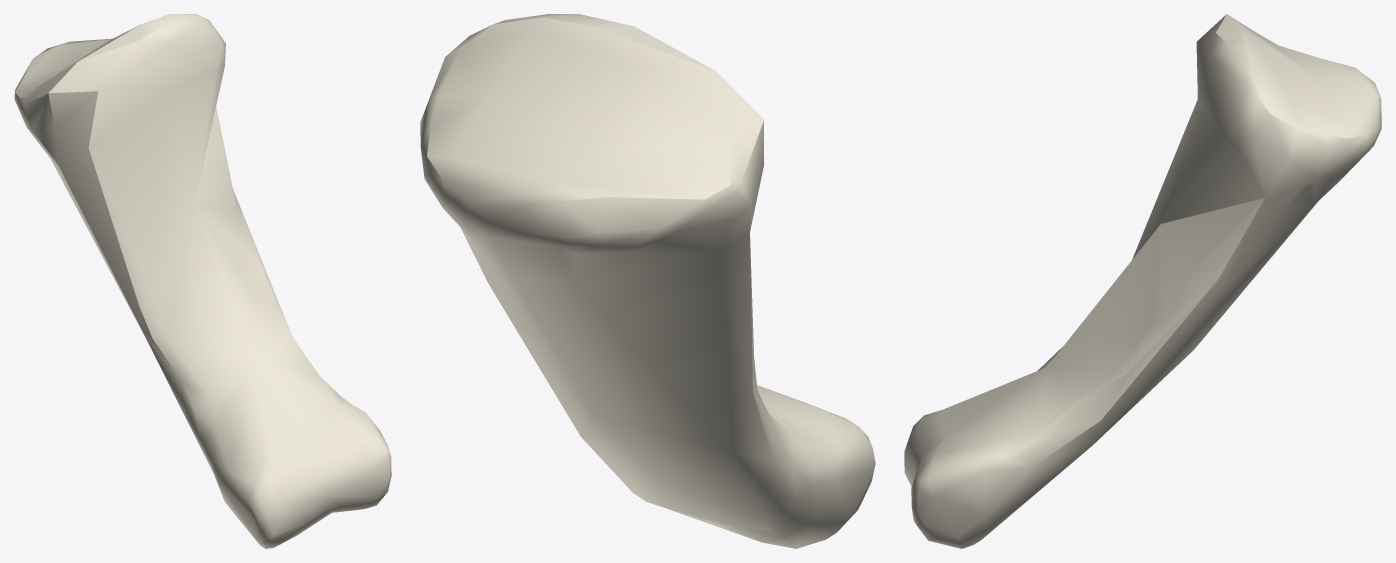
The model's file is fma23940_fj3299.glb.
3 renders of one model, left to right at view 1: azimuth 30°, elevation 25°; view 2: azimuth 150°, elevation 25°; view 3: azimuth 270°, elevation 25°, orthographic. The views are drawn at different scales.
Parts seen in each view (by area): view 1: FMA23940_FJ3299; view 2: FMA23940_FJ3299; view 3: FMA23940_FJ3299.
Boxes of the visible parts, x1,y1,x2,y2 form: FMA23940_FJ3299: [14, 14, 391, 548]; FMA23940_FJ3299: [420, 14, 875, 548]; FMA23940_FJ3299: [904, 14, 1381, 548].
Size of the model in its own units: 0.0137 by 0.0254 by 0.023.
